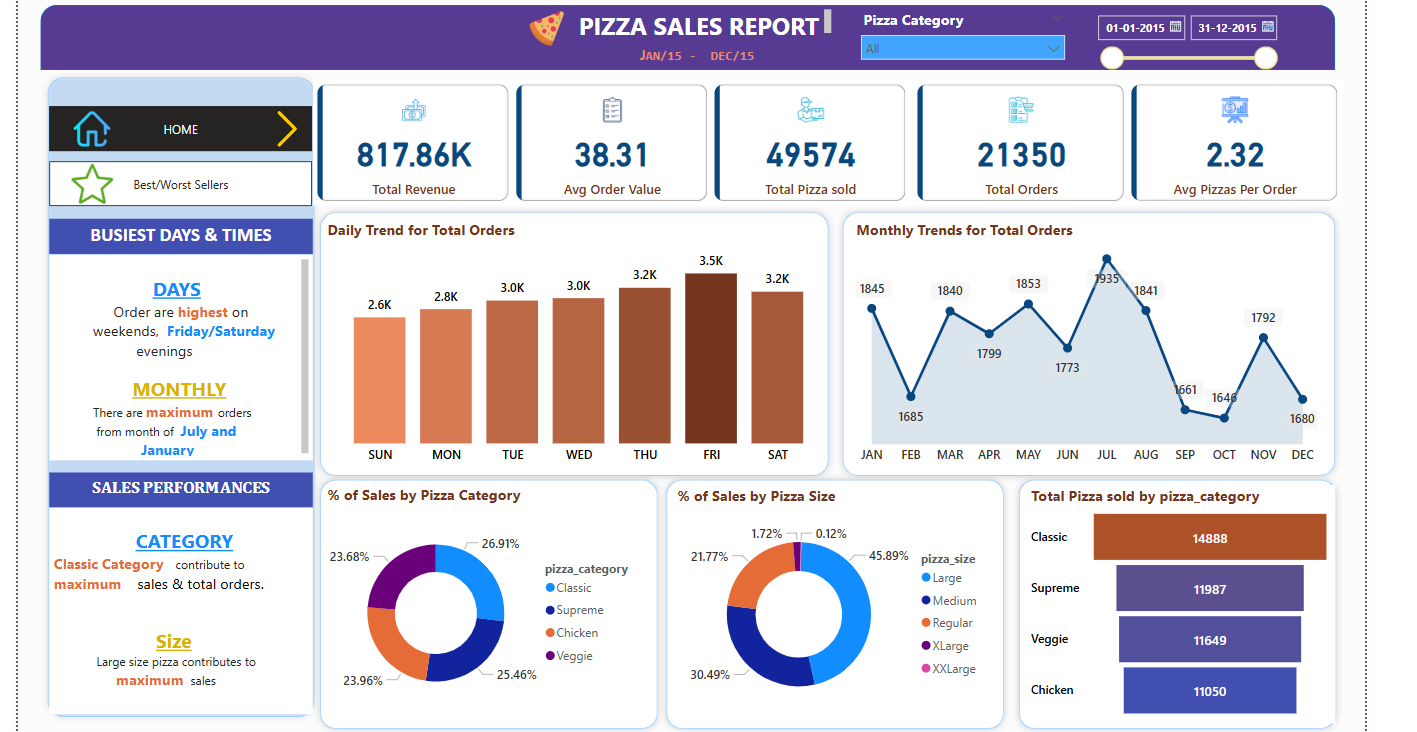

Layout of this report page (visuals, bound fields, positions):
{"tool":"powerbi","page":{"name":"HOME","canvas":[1500,820],"ordinal":0},"visuals":[{"type":"shape","box":[25.3,78.7,313.2,728.9],"z":0},{"type":"cardVisual","fields":{"Data":["pizza_sales.Total Revenue","pizza_sales.Avg Order Value","pizza_sales.Total Pizza sold"]},"box":[328.8,89,667,140],"z":1000},{"type":"cardVisual","fields":{"Data":["pizza_sales.Total Orders","pizza_sales.Avg Pizzas Per Order"]},"box":[996.8,89.3,479.5,140],"z":2000},{"type":"shape","box":[25,5,1442.5,72.5],"z":3000},{"type":"textbox","box":[676.5,46.2,159.2,30.8],"z":4000},{"type":"image","box":[556.5,6.9,63.8,50],"z":5000},{"type":"textbox","box":[620.4,5.6,291.5,40.2],"z":6000},{"type":"shape","box":[328.8,228.8,582.5,310],"z":7000},{"type":"columnChart","title":"Daily Trend for Total Orders","fields":{"Category":["pizza_sales.Order Day"],"Y":["pizza_sales.Total Orders"]},"box":[340,243.8,571.2,282.5],"z":8000},{"type":"shape","box":[911.2,228.8,565,310],"z":9000},{"type":"areaChart","title":"Monthly Trends for Total Orders","fields":{"Category":["pizza_sales.Order Month"],"Y":["pizza_sales.Total Orders"]},"box":[928.8,243.8,525,282.5],"z":10000},{"type":"shape","box":[328.7,526.7,391.9,293.5],"z":11000},{"type":"shape","box":[714.9,526.7,391.9,293.5],"z":12000},{"type":"shape","box":[1106.7,526.7,369.4,293.5],"z":13000},{"type":"donutChart","title":"% of Sales by Pizza Category","fields":{"Category":["pizza_sales.pizza_category"],"Y":["pizza_sales.Total Revenue"]},"box":[339.9,539.3,361,266.9],"z":14000},{"type":"donutChart","title":"% of Sales by Pizza Size","fields":{"Y":["pizza_sales.Total Revenue"],"Category":["pizza_sales.pizza_size"]},"box":[730.3,540.7,361,266.9],"z":15000},{"type":"funnel","fields":{"Category":["pizza_sales.pizza_category"],"Y":["pizza_sales.Total Pizza sold"]},"box":[1123.6,540.7,344.1,265.4],"z":16000},{"type":"textbox","box":[35.1,244.4,293.5,39.3],"z":17000},{"type":"textbox","box":[35.1,283.7,293.5,228.9],"z":18000},{"type":"textbox","box":[35.1,526.7,293.5,39.3],"z":19000},{"type":"textbox","box":[35.1,566,293.5,230.3],"z":20000},{"type":"slicer","fields":{"Values":["pizza_sales.pizza_category"]},"box":[929.4,5.1,247.7,70.6],"z":21000},{"type":"slicer","fields":{"Values":["pizza_sales.order_date"]},"box":[1191.2,6.4,220.8,73.2],"z":22000},{"type":"pageNavigator","box":[35.1,118,293.5,50.6],"z":23000},{"type":"pageNavigator","box":[35.1,179.8,293.5,50.6],"z":24000},{"type":"image","box":[164.3,118,271.1,50.6],"z":25000},{"type":"image","box":[35.1,118,95.5,50.6],"z":26000},{"type":"image","box":[35.1,177,95.5,56.2],"z":27000}]}

Visuals, with their boxes on the page's 1500x820 design canvas (x1, y1, x2, y2). These are canvas units, not pixel positions in the 1417x732 screenshot, which may show the page scaled, cropped or inside an application window:
shape: box=[25, 79, 338, 808]
cardVisual - pizza_sales.Total Revenue x pizza_sales.Avg Order Value: box=[329, 89, 996, 229]
cardVisual - pizza_sales.Total Orders x pizza_sales.Avg Pizzas Per Order: box=[997, 89, 1476, 229]
shape: box=[25, 5, 1468, 78]
textbox: box=[676, 46, 836, 77]
image: box=[556, 7, 620, 57]
textbox: box=[620, 6, 912, 46]
shape: box=[329, 229, 911, 539]
"Daily Trend for Total Orders" columnChart: box=[340, 244, 911, 526]
shape: box=[911, 229, 1476, 539]
"Monthly Trends for Total Orders" areaChart: box=[929, 244, 1454, 526]
shape: box=[329, 527, 721, 820]
shape: box=[715, 527, 1107, 820]
shape: box=[1107, 527, 1476, 820]
"% of Sales by Pizza Category" donutChart: box=[340, 539, 701, 806]
"% of Sales by Pizza Size" donutChart: box=[730, 541, 1091, 808]
funnel - pizza_sales.pizza_category x pizza_sales.Total Pizza sold: box=[1124, 541, 1468, 806]
textbox: box=[35, 244, 329, 284]
textbox: box=[35, 284, 329, 513]
textbox: box=[35, 527, 329, 566]
textbox: box=[35, 566, 329, 796]
slicer - pizza_sales.pizza_category: box=[929, 5, 1177, 76]
slicer - pizza_sales.order_date: box=[1191, 6, 1412, 80]
pageNavigator: box=[35, 118, 329, 169]
pageNavigator: box=[35, 180, 329, 230]
image: box=[164, 118, 435, 169]
image: box=[35, 118, 131, 169]
image: box=[35, 177, 131, 233]
